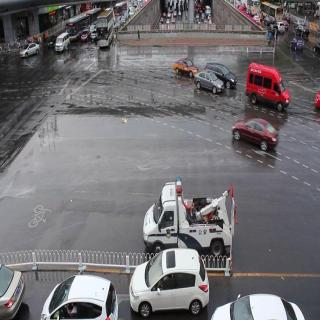BigCar: (94, 5, 114, 57), (64, 10, 86, 42)
Car: (142, 176, 239, 263), (124, 252, 209, 314), (37, 265, 122, 320), (246, 59, 290, 118), (231, 112, 279, 160), (192, 62, 230, 110), (207, 60, 235, 92), (169, 50, 198, 80), (18, 38, 40, 63), (54, 30, 68, 60)
